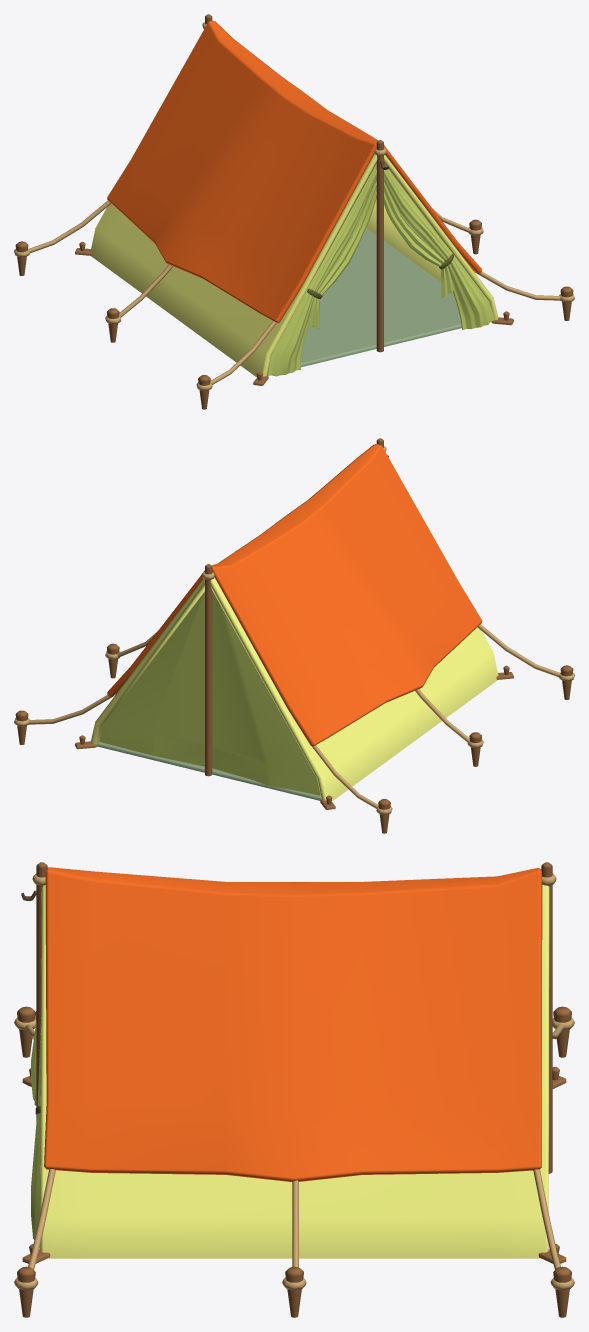
Rendered from tent _orange_normal.fbx.
3 renders of one model, top to bottom at view 1: azimuth 30°, elevation 25°; view 2: azimuth 150°, elevation 25°; view 3: azimuth 270°, elevation 25°, orthographic. The views are drawn at different scales.
Parts seen in each view (by area): view 1: tent_orange_normal; view 2: tent_orange_normal; view 3: tent_orange_normal.
Boxes of the visible parts, box(x1,y1,x2,y2) form: tent_orange_normal: box(14, 14, 574, 409); tent_orange_normal: box(14, 438, 574, 833); tent_orange_normal: box(14, 862, 574, 1317).
Size of the model in its own units: 277 by 154 by 243.
